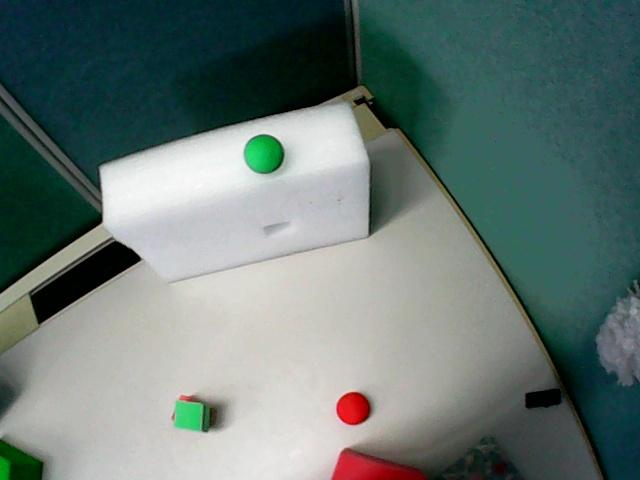red_block: (332, 449, 425, 479)
